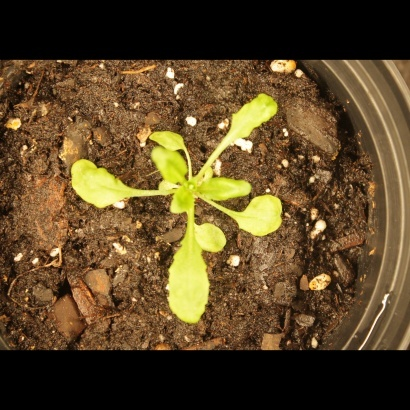leaf: (167, 219, 216, 329), (65, 152, 144, 216), (218, 90, 281, 153), (235, 193, 289, 239), (196, 175, 253, 206), (148, 144, 190, 186), (192, 223, 231, 253), (148, 127, 191, 154), (169, 188, 192, 218)
